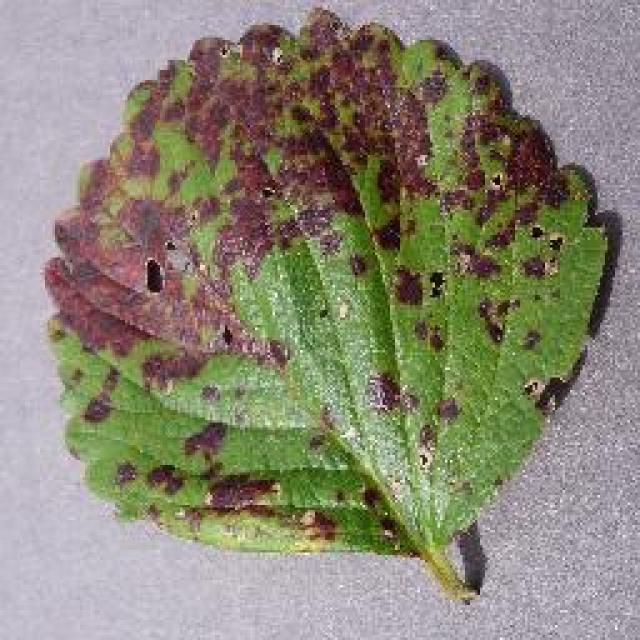Strawberry leaf scorch: (142, 73, 502, 420)
